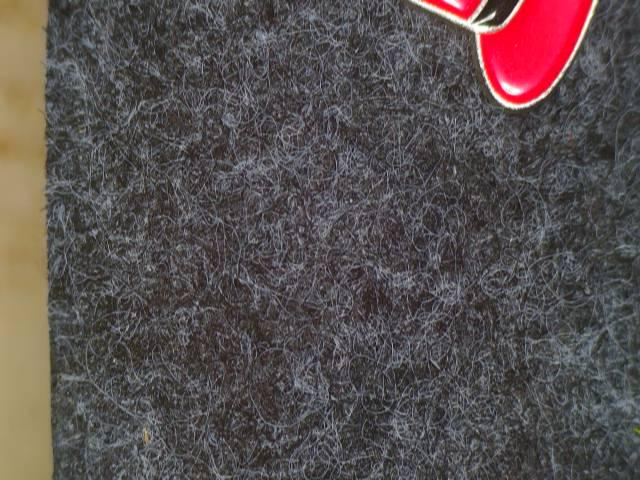Red-Hat: (379, 0, 630, 135)
